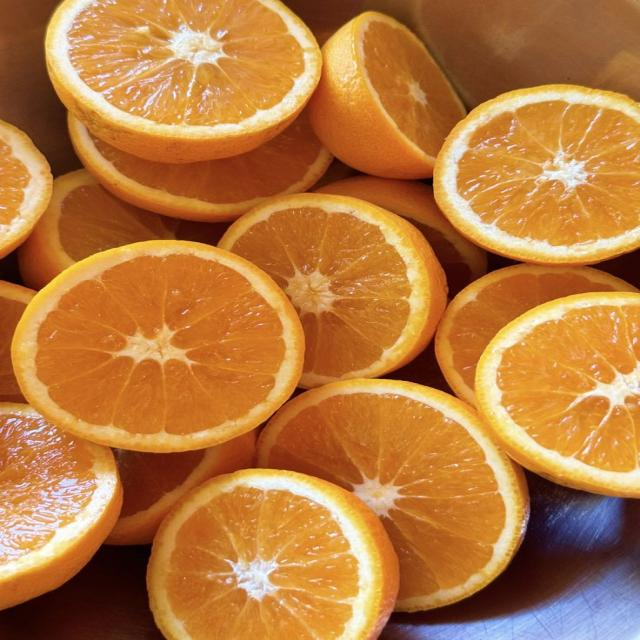orange: (258, 380, 528, 611), (13, 241, 303, 452), (46, 0, 321, 162), (219, 194, 446, 387), (147, 470, 398, 639), (434, 85, 639, 264), (475, 292, 639, 497), (69, 112, 332, 221), (435, 265, 637, 405), (310, 12, 465, 178), (0, 404, 121, 609), (19, 170, 227, 289), (315, 176, 486, 296), (106, 432, 255, 544), (0, 121, 53, 257), (0, 281, 35, 402)
